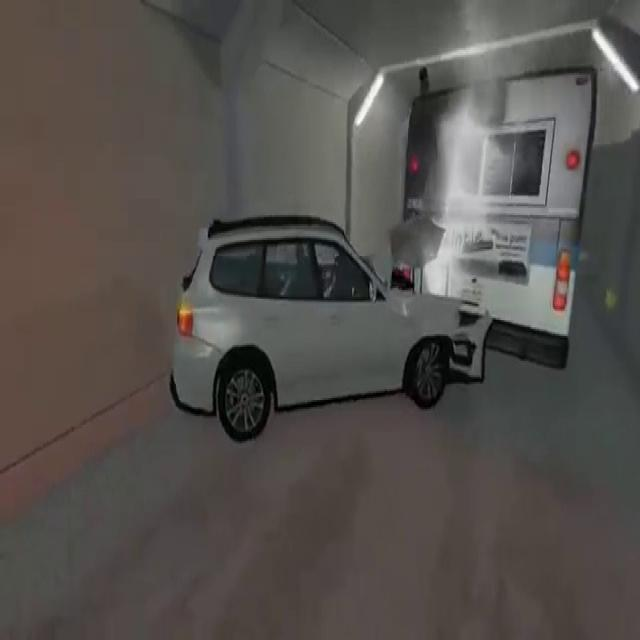accident: (165, 58, 606, 449)
